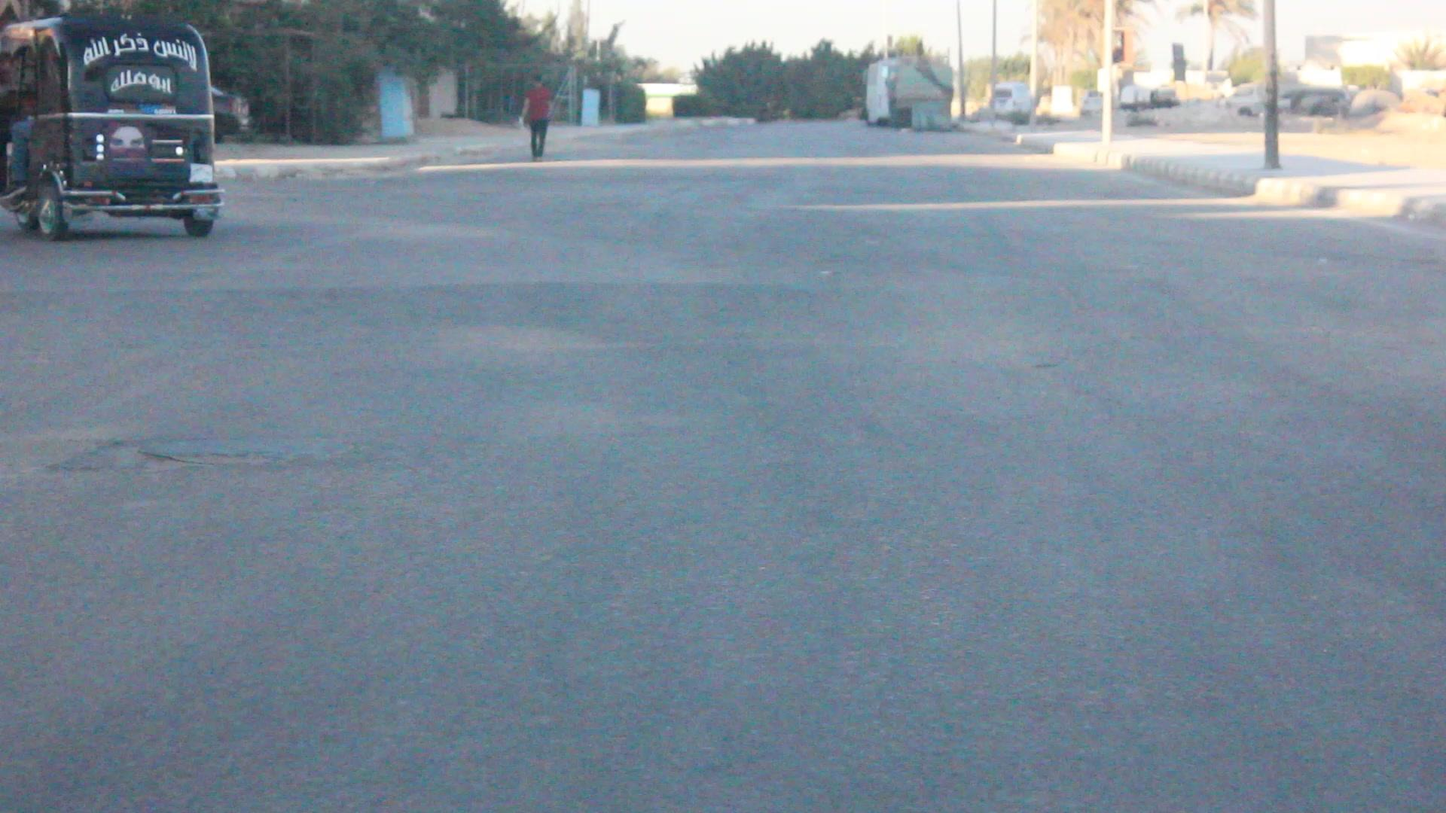Bump: (0, 275, 1446, 371)
